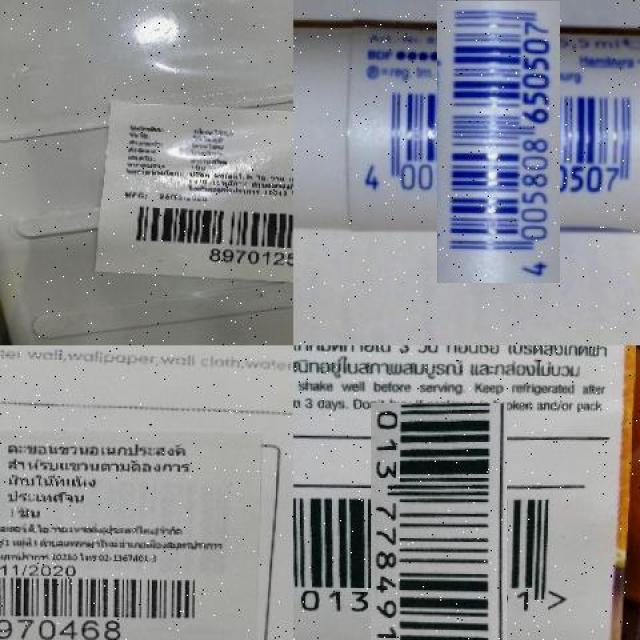Barcode: (331, 441, 545, 640), (397, 40, 600, 243), (0, 564, 207, 640), (124, 199, 293, 268)
